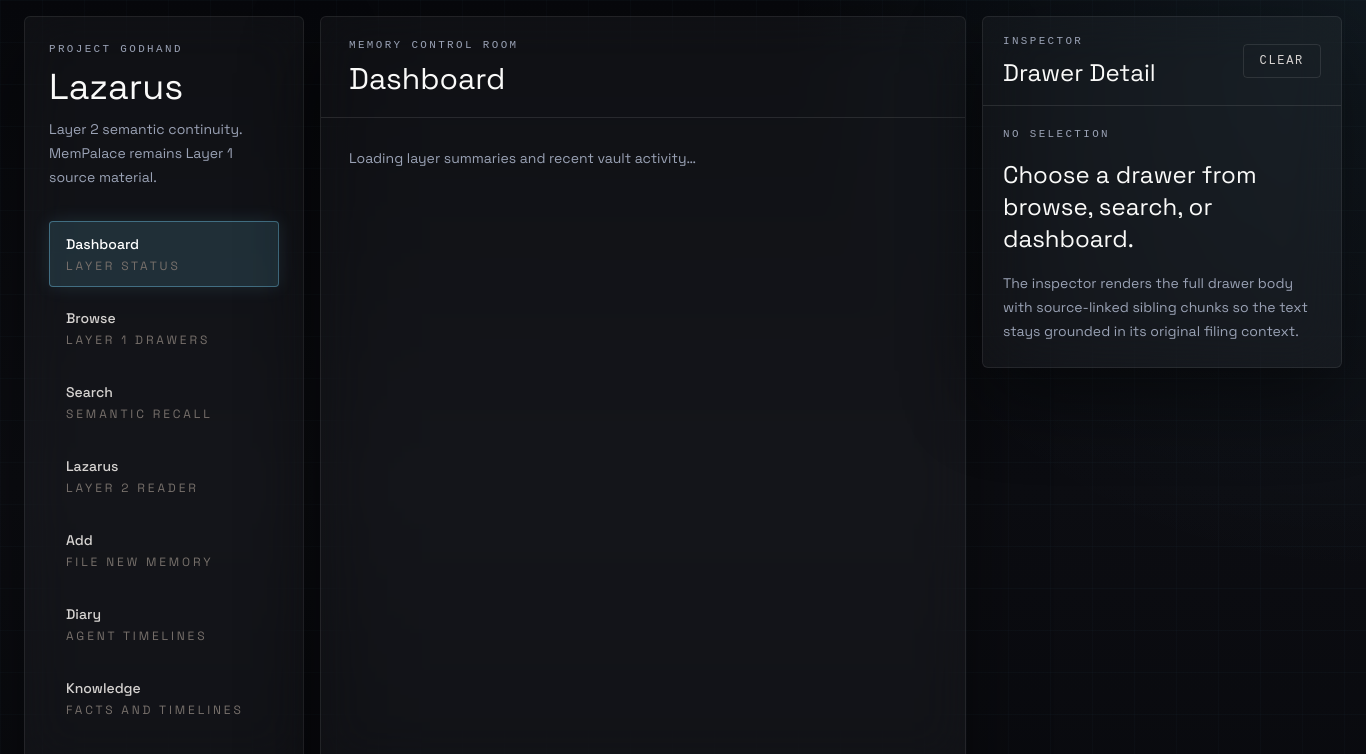
Scenario: MemPalace web app › supports browse flow and opens the inspector from a drawer row
Click the link "Browse Layer 1 drawers". click: (91, 318)
box: [66, 309, 210, 348]
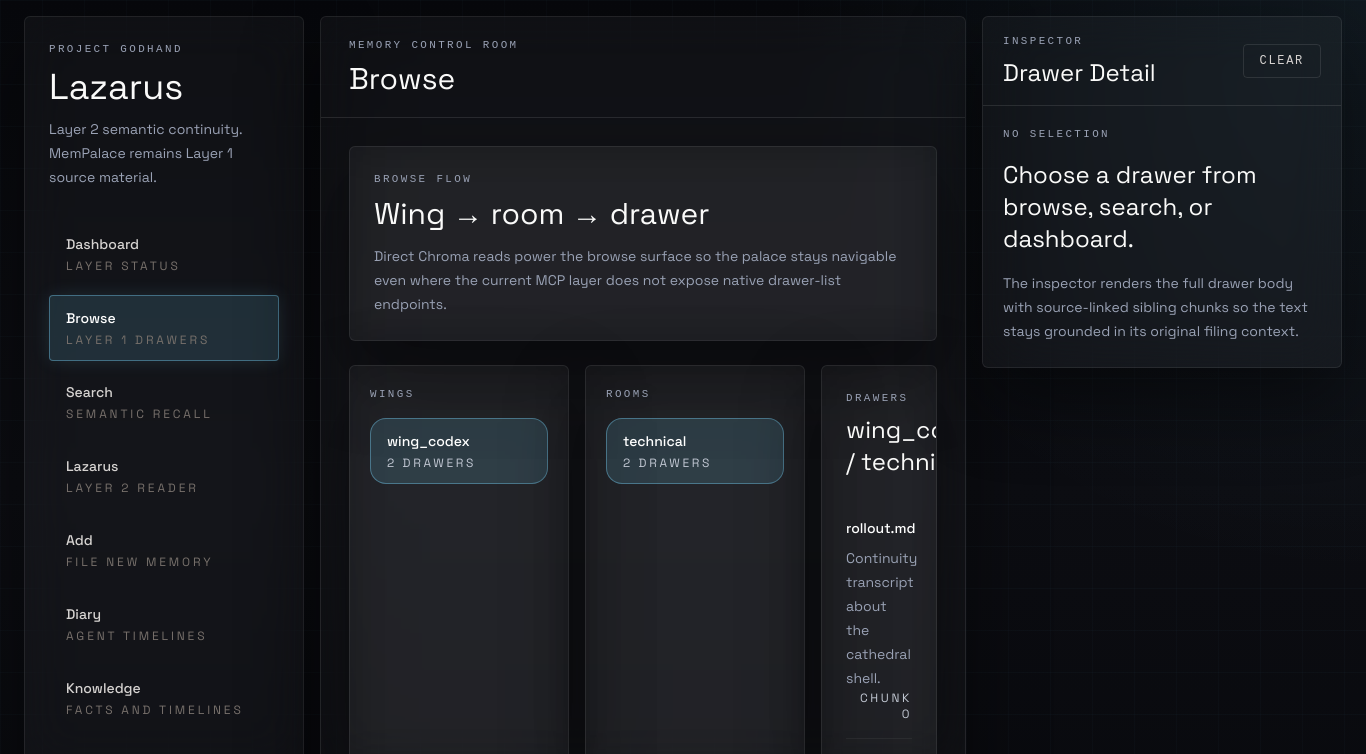
Check: the heading "wing_codex / technical" is shown, box [846, 414, 937, 478]
Click the text "Continuity transcript about the cathedral shell.". click: (879, 618)
box: [846, 546, 912, 690]
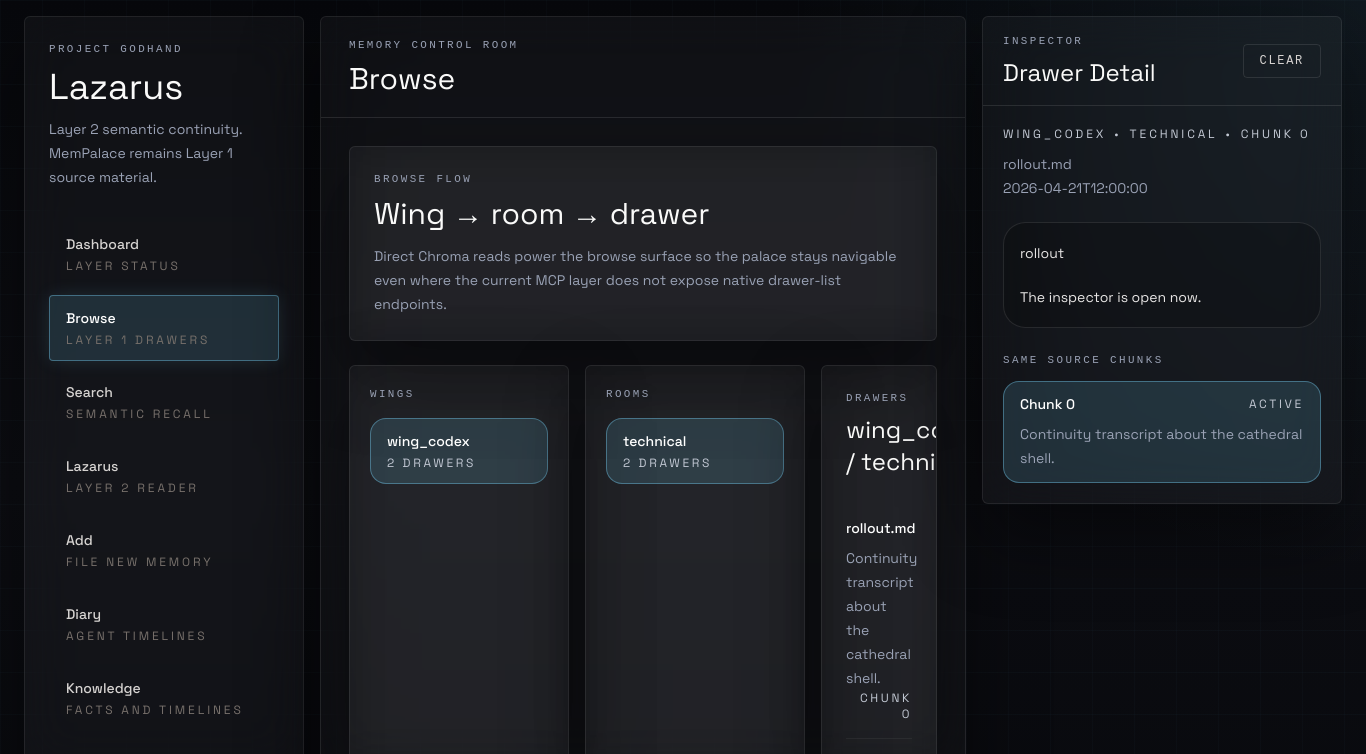
Check: the heading "Drawer Detail" is shown, box [1003, 57, 1156, 89]
Check: the text "The inspector is open now." is shown, box [1020, 288, 1201, 306]
